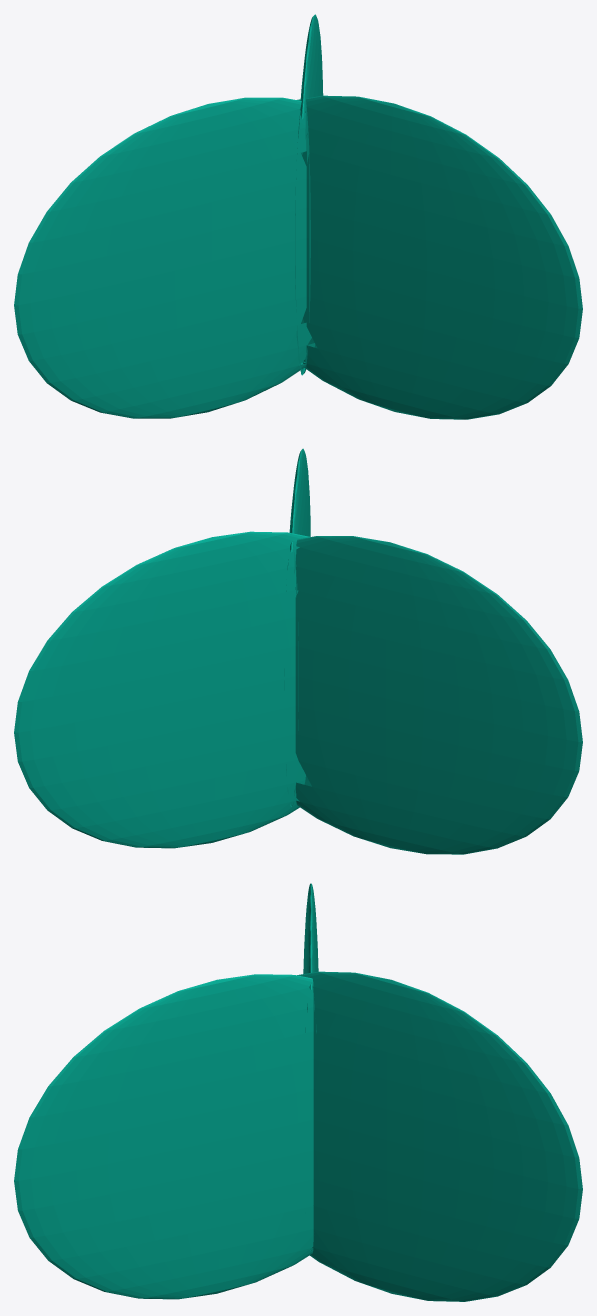
Rendered from 222fin 1.fbx.
3 renders of one model, top to bottom at view 1: azimuth 30°, elevation 25°; view 2: azimuth 150°, elevation 25°; view 3: azimuth 270°, elevation 25°, orthographic. The views are drawn at different scales.
Visible parts, largest first — view 1: Sphere.009, Sphere.008, Sphere.007; view 2: Sphere.009, Sphere.007, Sphere.008; view 3: Sphere.008, Sphere.007, Sphere.009.
Part boxes in pixels (<box>): Sphere.009: <box>14,97,315,418</box>; Sphere.008: <box>297,95,582,419</box>; Sphere.007: <box>295,14,323,375</box>; Sphere.009: <box>295,536,582,854</box>; Sphere.007: <box>14,531,309,848</box>; Sphere.008: <box>284,448,310,806</box>; Sphere.008: <box>14,974,313,1299</box>; Sphere.007: <box>297,971,582,1301</box>; Sphere.009: <box>303,883,318,1250</box>.
Bounding box in the file's own units: 541 × 362 × 595.
